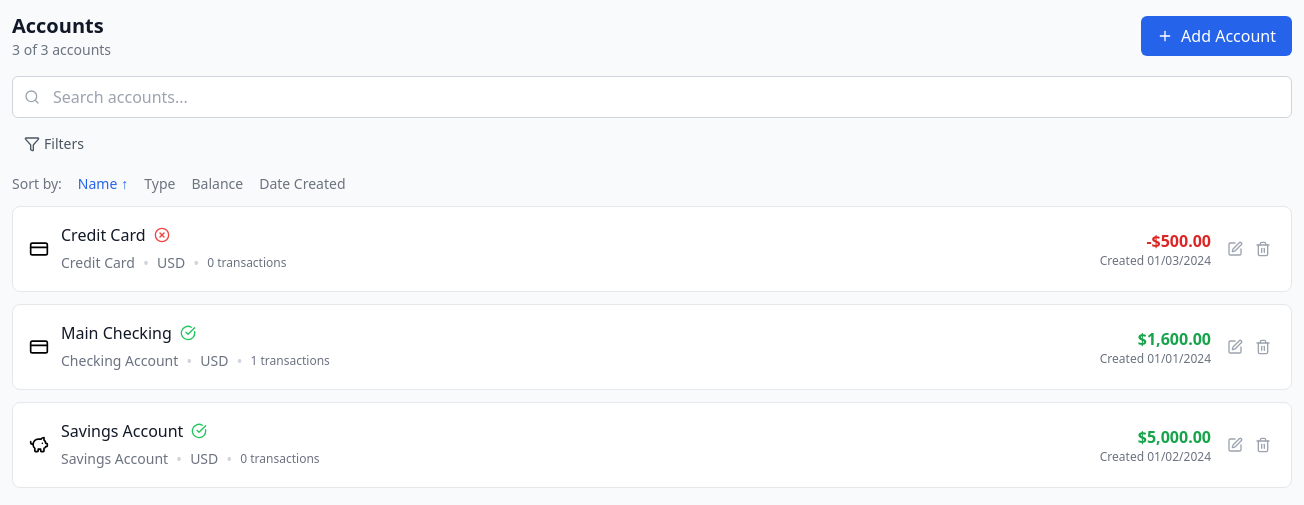
AccountList › Search and Filtering › should filter accounts by search term
Step 1. Type "checking" into the field with placeholder "Search accounts..." → (652, 97), box [12, 76, 1292, 118]
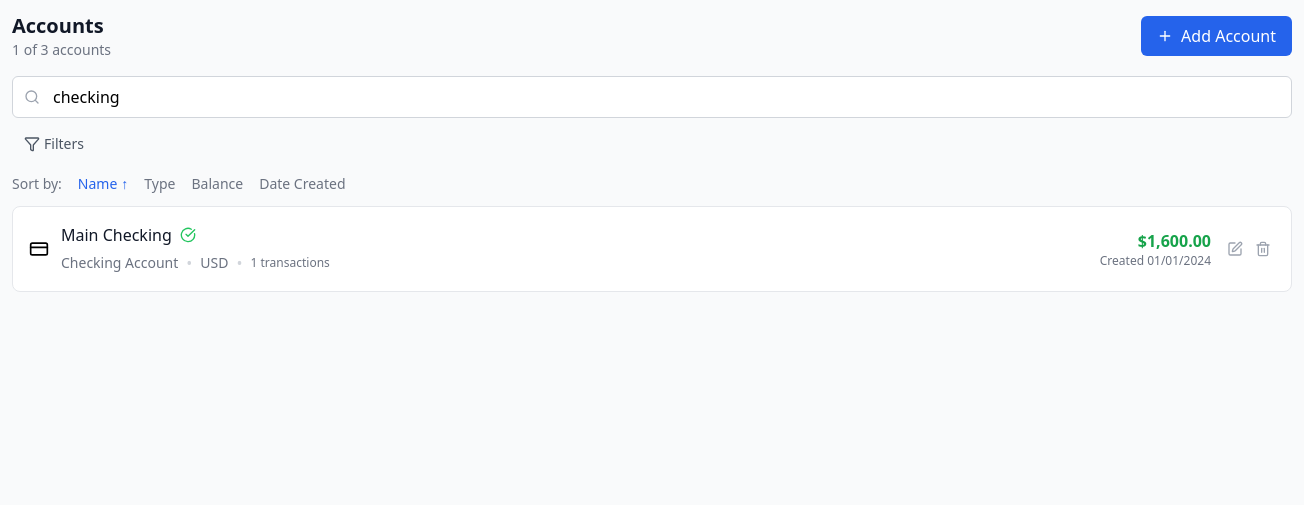
Expected: the heading "Main Checking" is shown, [61, 223, 172, 247]
Expected: the heading "Savings Account" is gone
Expected: the heading "Credit Card" is gone
